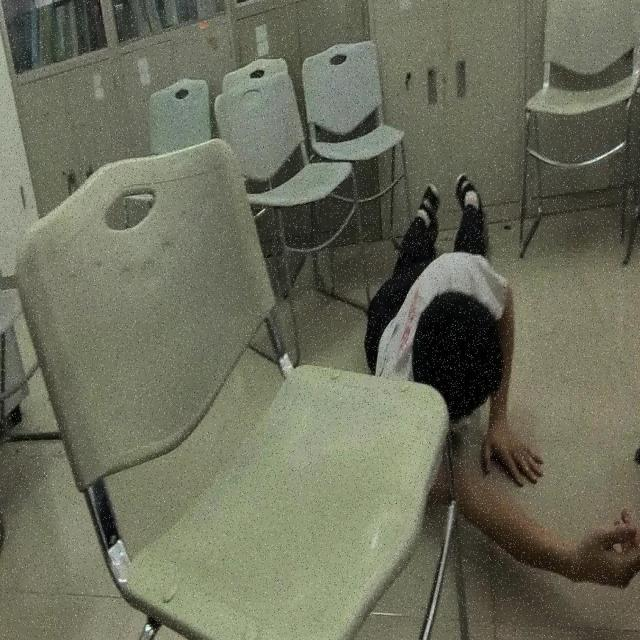fall: (360, 167, 640, 594)
